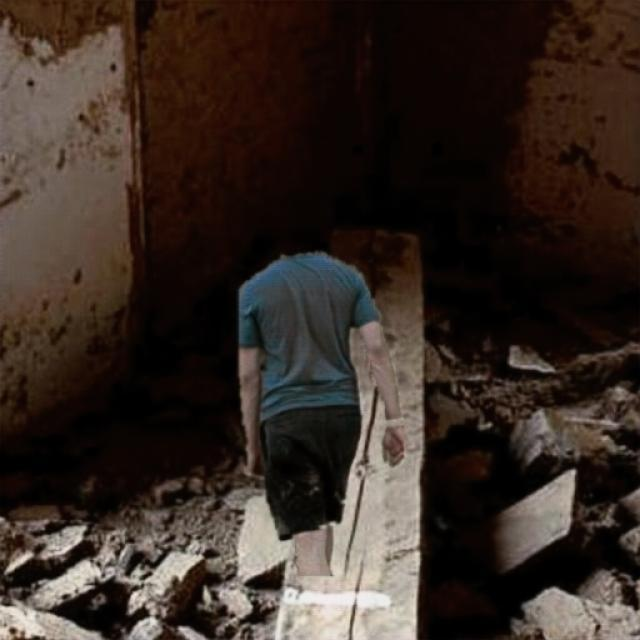Person in Rubble: (238, 251, 402, 575)
